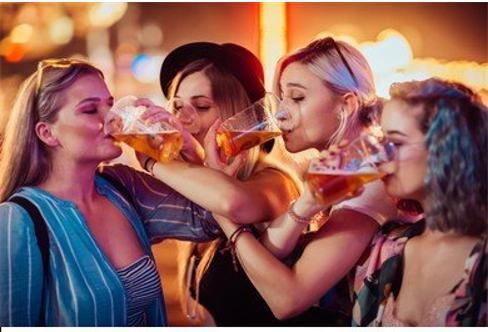Drunk: (64, 73, 122, 161), (278, 65, 335, 153)
